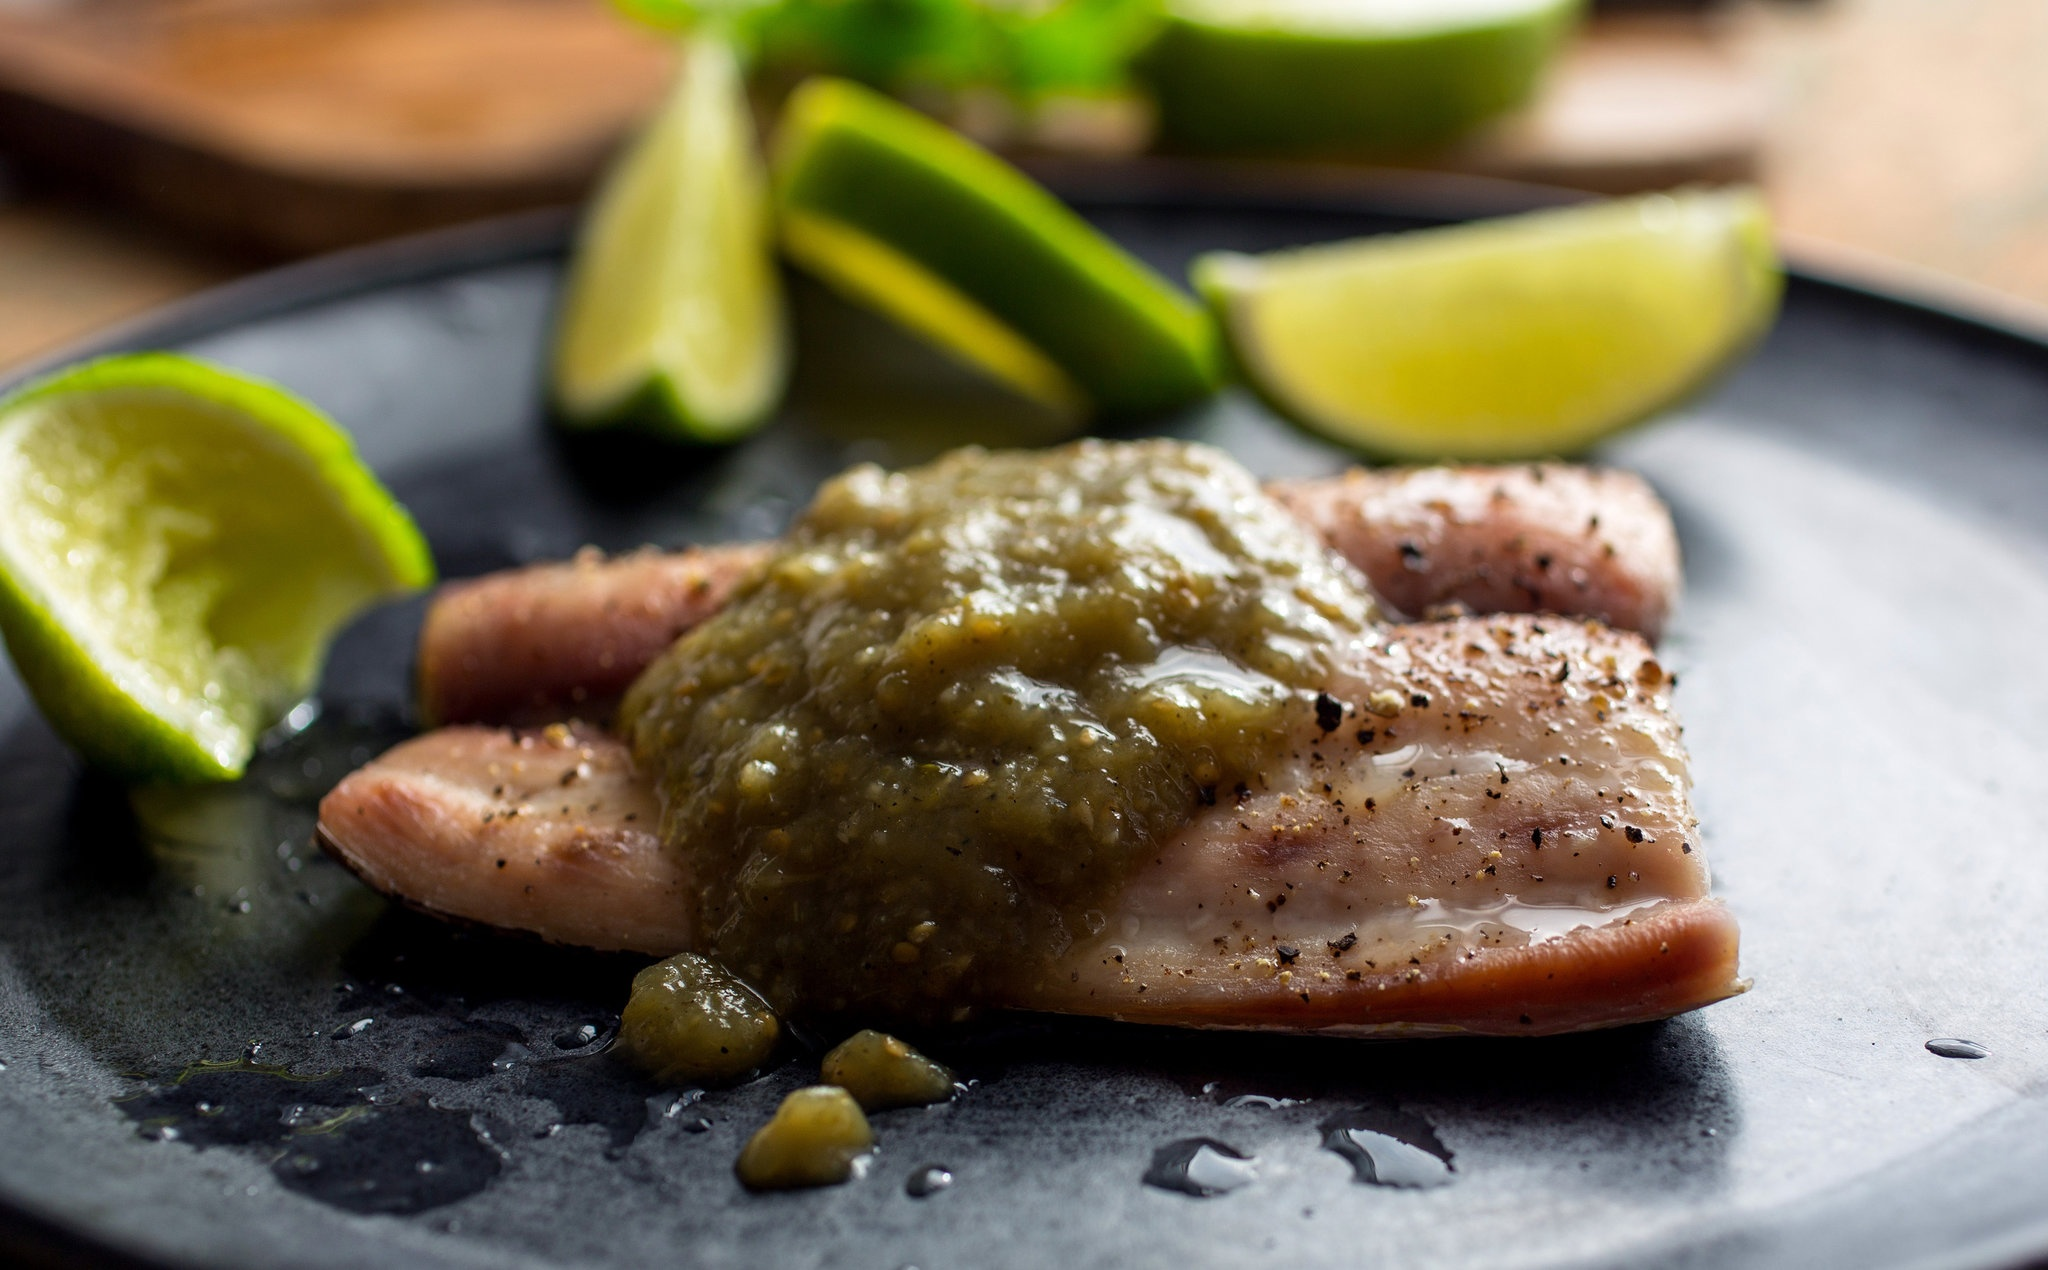background: (0, 689, 1412, 1270)
